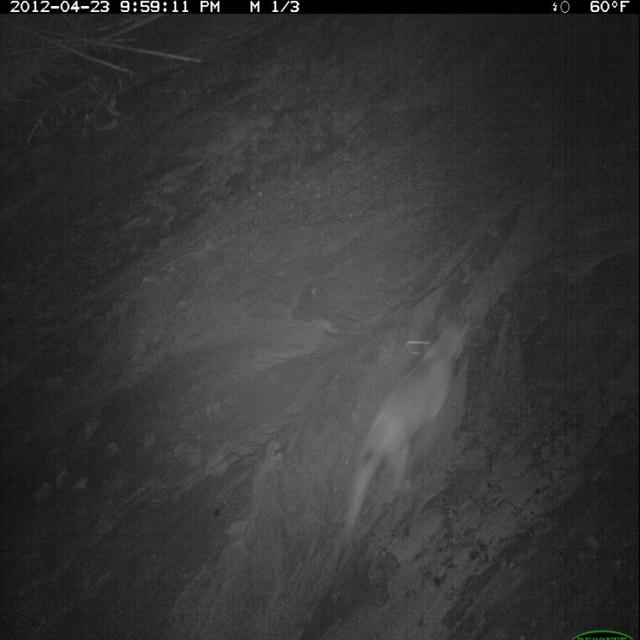bobcat: (338, 307, 477, 550)
